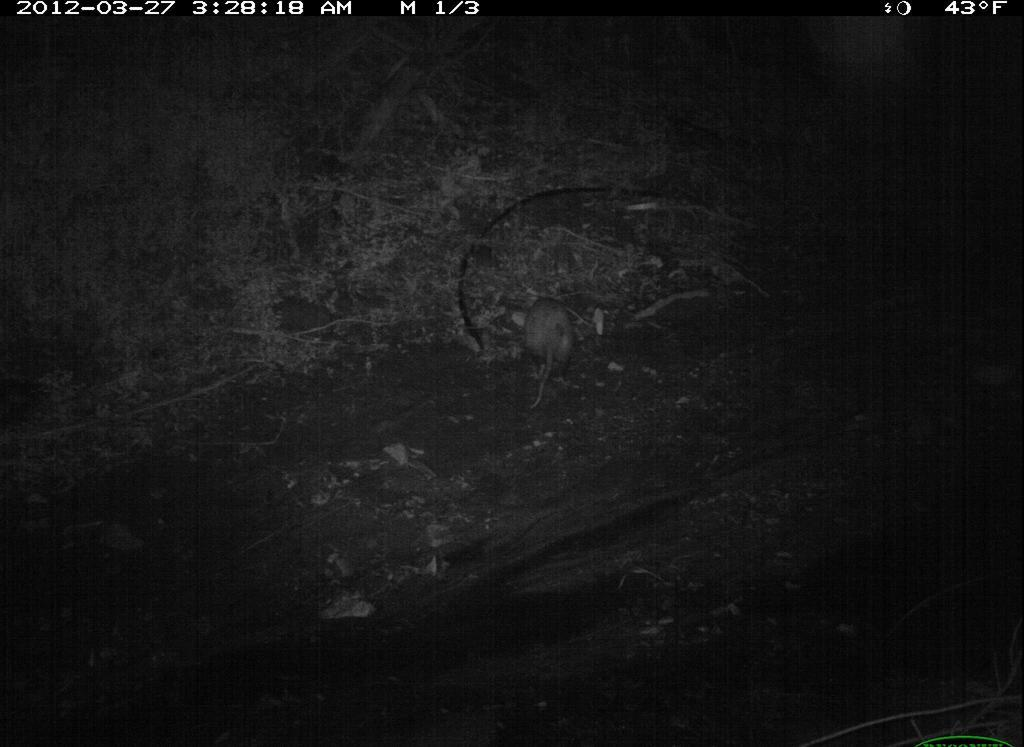opossum: (500, 289, 584, 417)
